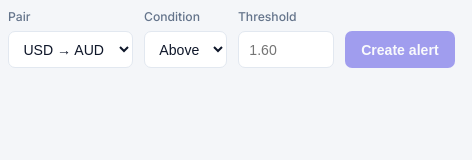
CreateAlertForm › keeps submit disabled until a positive threshold is entered
The width and height of the screenshot is (472, 160).
Expected: the button "Create alert" is disabled, 345,31 -> 455,68
Type "0" into the field labelled "Threshold".
click(286, 50); type("0")  # box 238,31 -> 334,68
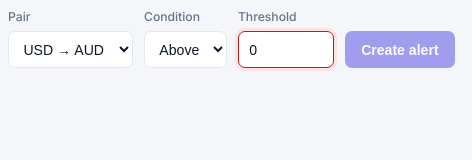
Expected: the button "Create alert" is disabled, 345,31 -> 455,68
Replace the text in the field labelled "Threshold" with "1.6" at point(286, 50), box 238,31 -> 334,68
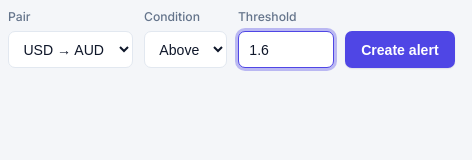
Result: the button "Create alert" is enabled at 345,31 -> 455,68
